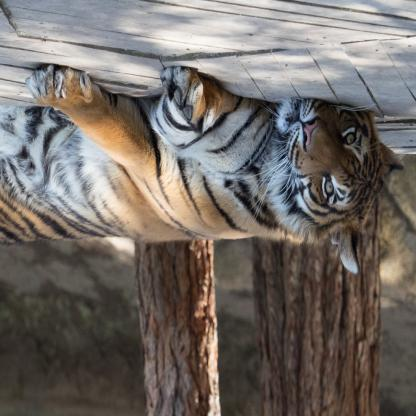tiger: (268, 82, 396, 254)
